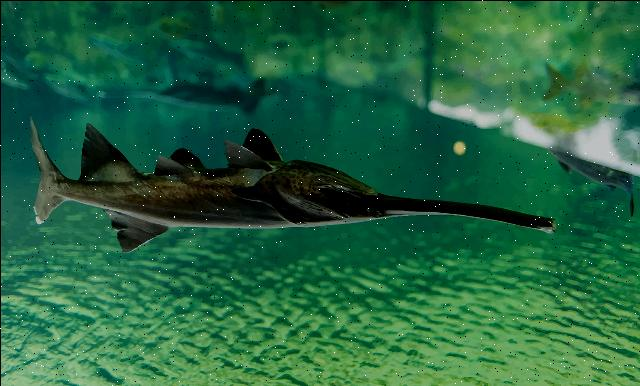Mulut: (337, 166, 391, 212)
Sirip Anal: (71, 114, 145, 196)
Sirip Dada: (218, 116, 286, 176)
Sirip Ekor: (11, 105, 70, 228)
Sirip Perut: (148, 136, 210, 182)
Sirip Punggung: (100, 200, 173, 260)
